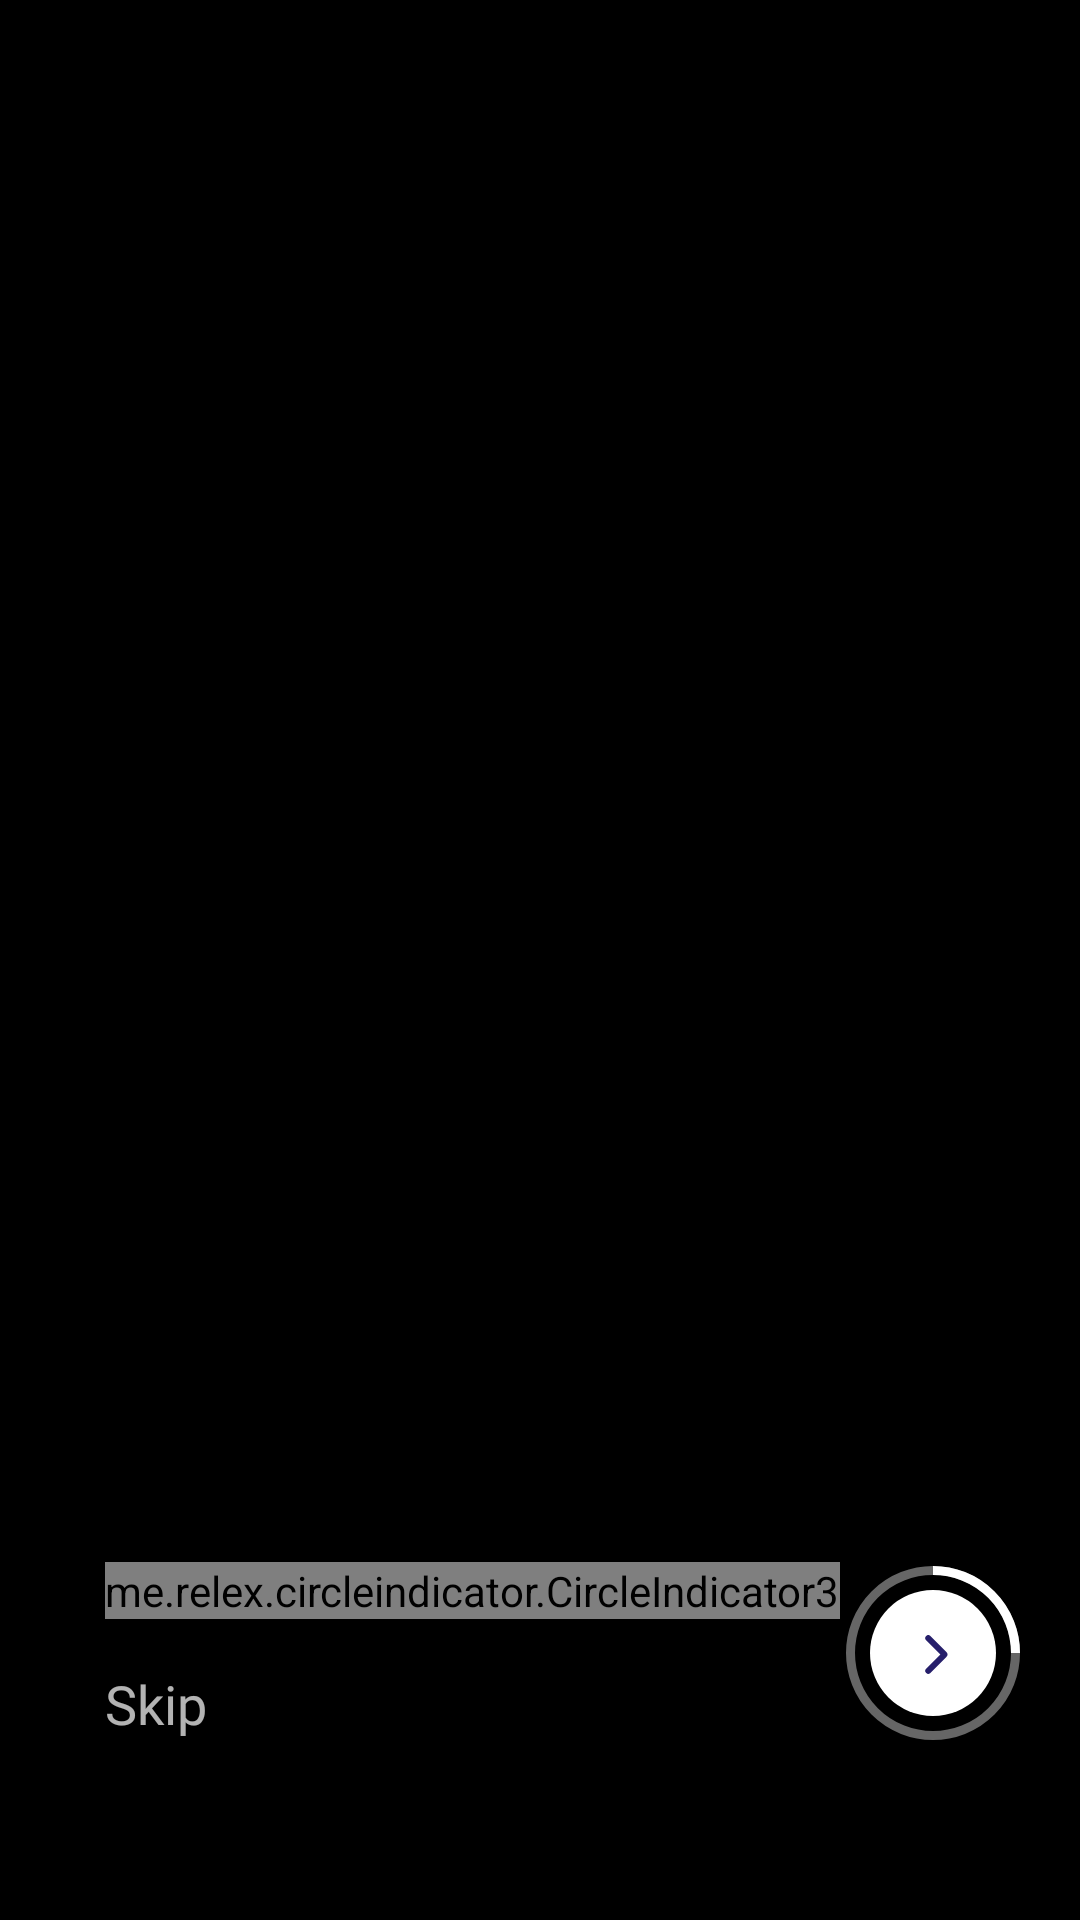

Icon bounding boxes for this 1080x1920 phone screenshot, format bbox=[x1, y1, x2, y2]:
loader onboarding: bbox=[846, 1566, 1020, 1740]
